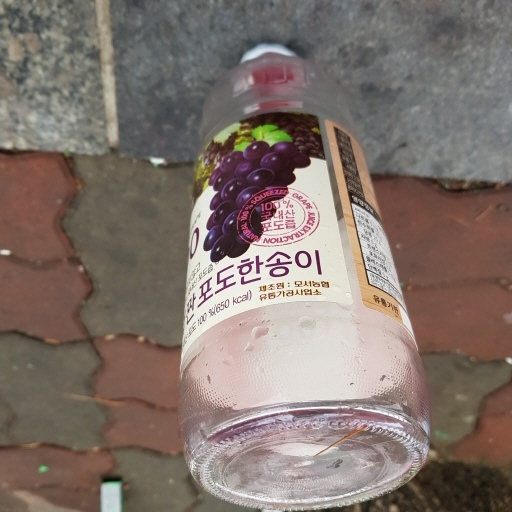Glass_4: (180, 43, 429, 507)
